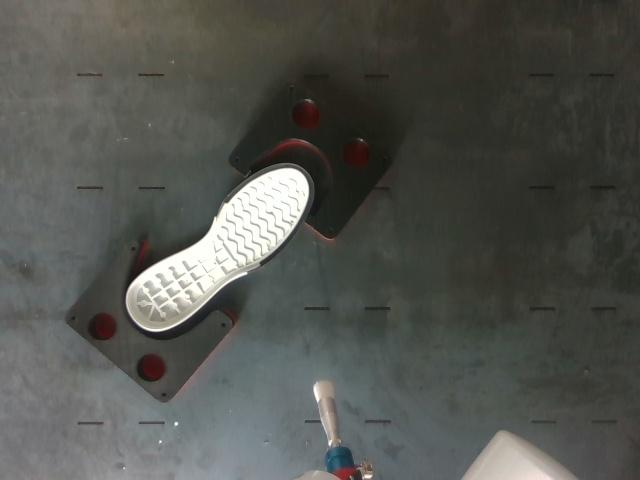shoes: (127, 163, 314, 330)
